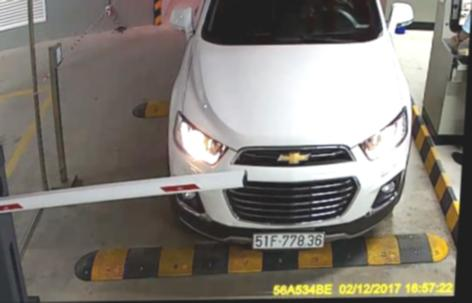License_Plate: (249, 225, 330, 254)
